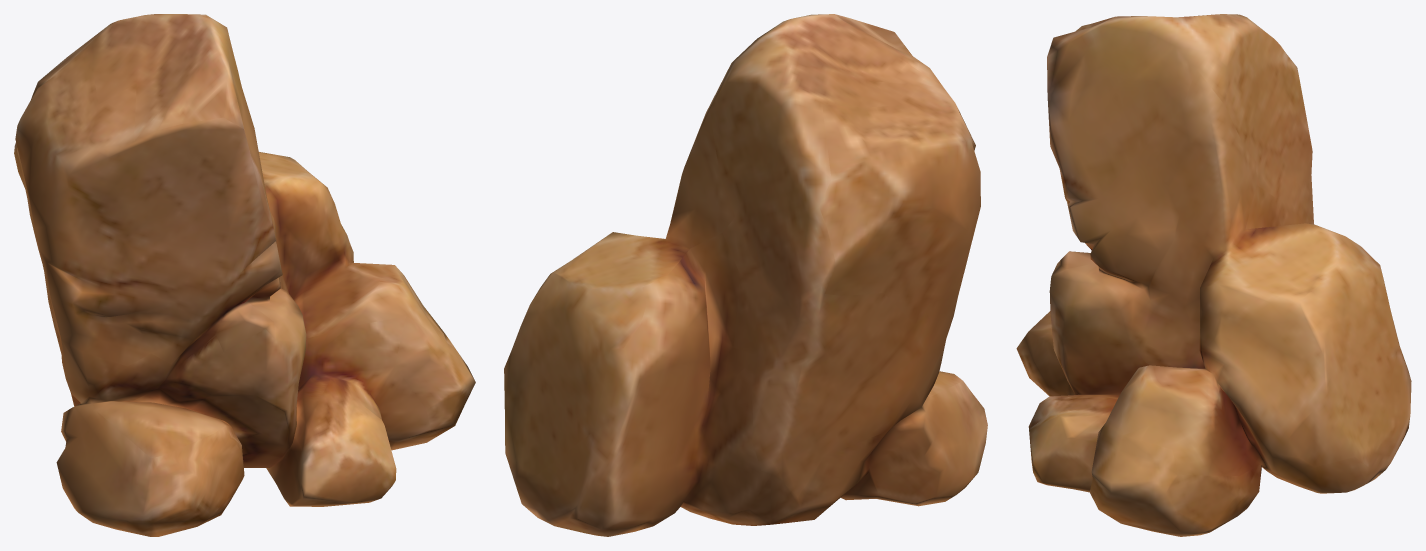
File: Captus.glb
3 views of the same model, side by side, from view 1: azimuth 30°, elevation 25°; view 2: azimuth 150°, elevation 25°; view 3: azimuth 270°, elevation 25° (orthographic). The views are drawn at different scales.
Visible parts, largest first — view 1: Captus; view 2: Captus; view 3: Captus.
Part boxes in pixels (box(x1,y1,x2,y2)): Captus: box(14, 14, 475, 536); Captus: box(504, 14, 987, 536); Captus: box(1016, 14, 1411, 536).
Bounding box in the file's own units: 0.1661 × 0.1703 × 0.1447.
Materials: 1 (1 with a texture image).
